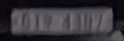61부4389: (14, 8, 108, 31)
